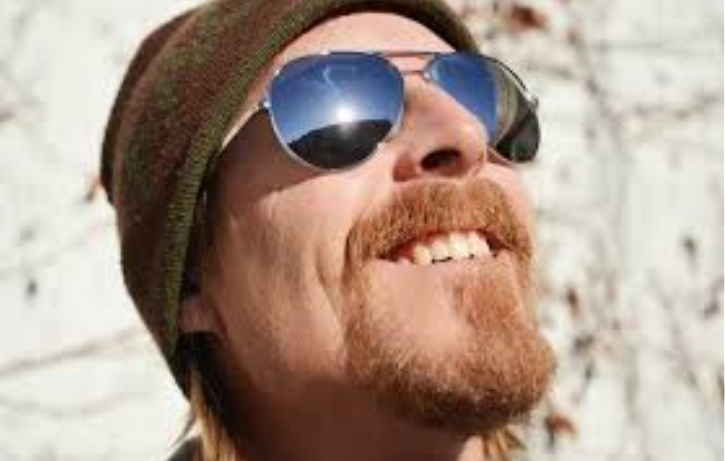no_mask: (228, 145, 575, 420)
